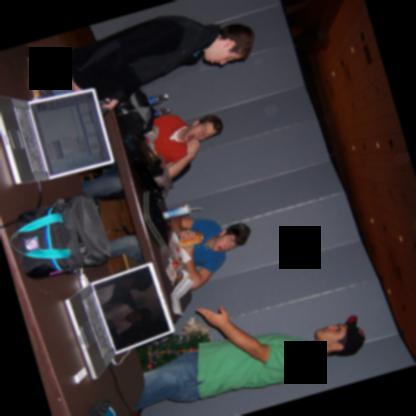backpack: (0, 193, 111, 280), (116, 87, 156, 136)
handbag: (9, 192, 111, 280)
